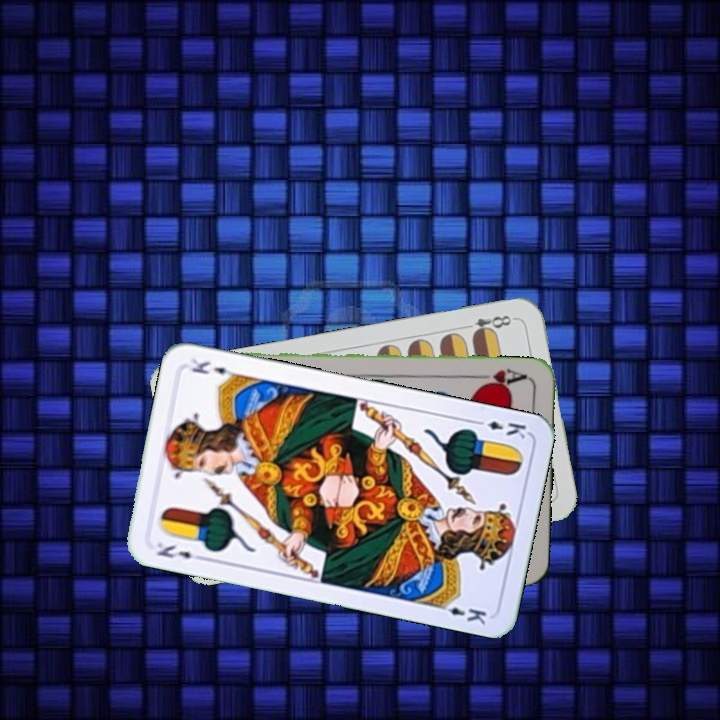E8: (459, 311, 518, 339)
EK: (470, 416, 529, 441), (153, 538, 207, 563)
HA: (471, 364, 529, 390)
